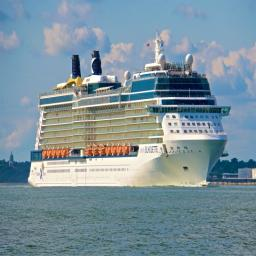cruises: (26, 37, 233, 191)
